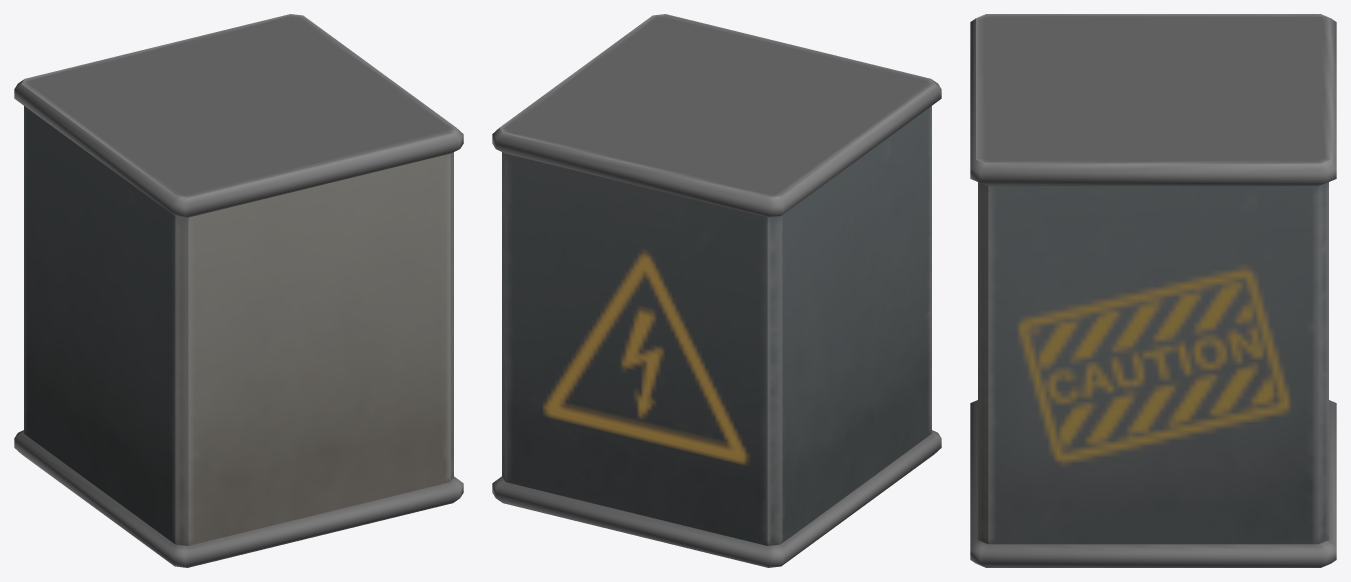
The model's file is metal_utility_box.glb.
3 renders of one model, left to right at view 1: azimuth 30°, elevation 25°; view 2: azimuth 150°, elevation 25°; view 3: azimuth 270°, elevation 25°, orthographic. The views are drawn at different scales.
Parts seen in each view (by area): view 1: ElectricBox01; view 2: ElectricBox01; view 3: ElectricBox01.
Boxes of the visible parts, x1=… form: ElectricBox01: x1=14, y1=14, x2=463, y2=567; ElectricBox01: x1=492, y1=14, x2=941, y2=567; ElectricBox01: x1=970, y1=14, x2=1336, y2=567.
Size of what is drawn, in the model's own units: 0.6277 by 0.7639 by 0.6277.
Materials: 1 (1 with a texture image).
